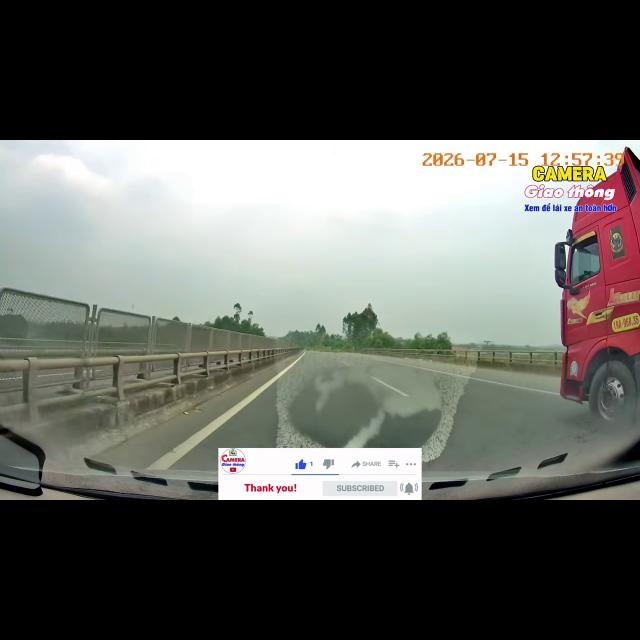truck: (555, 147, 639, 424)
